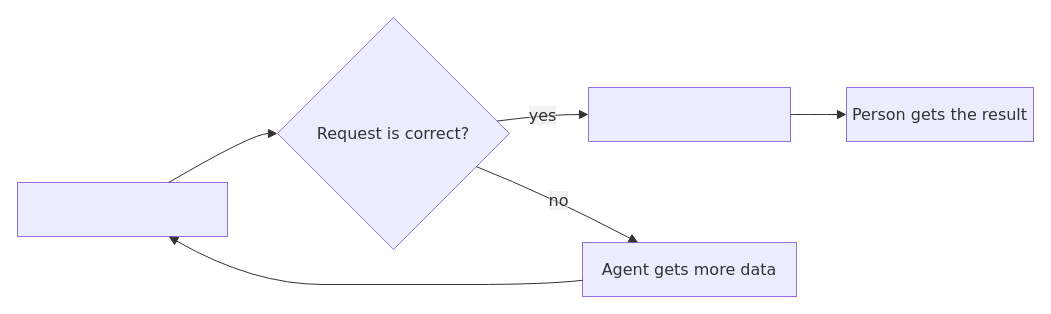
Image size: 1051x314. Some labels were removed from this diagram. The centre of each missing label's shape, as x and y in pixels:
"Agent does the task" belongs at (x=689, y=114).
"Person sends request" belongs at (x=122, y=209).
